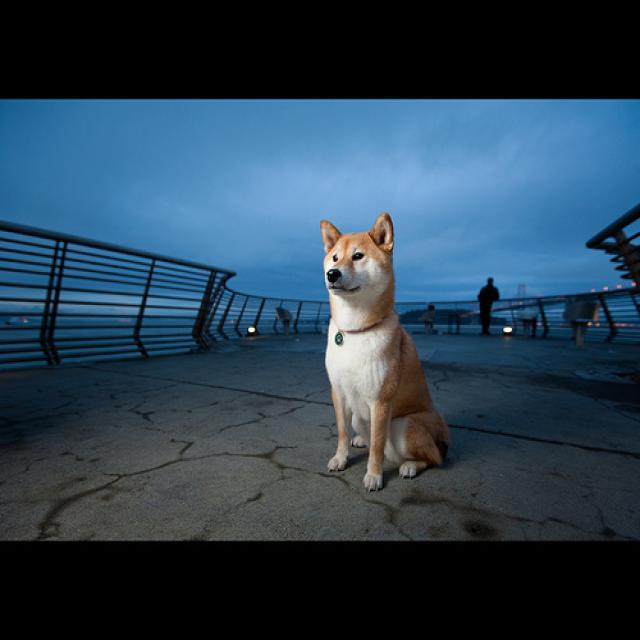dog-shiba_inu: (314, 203, 458, 500)
